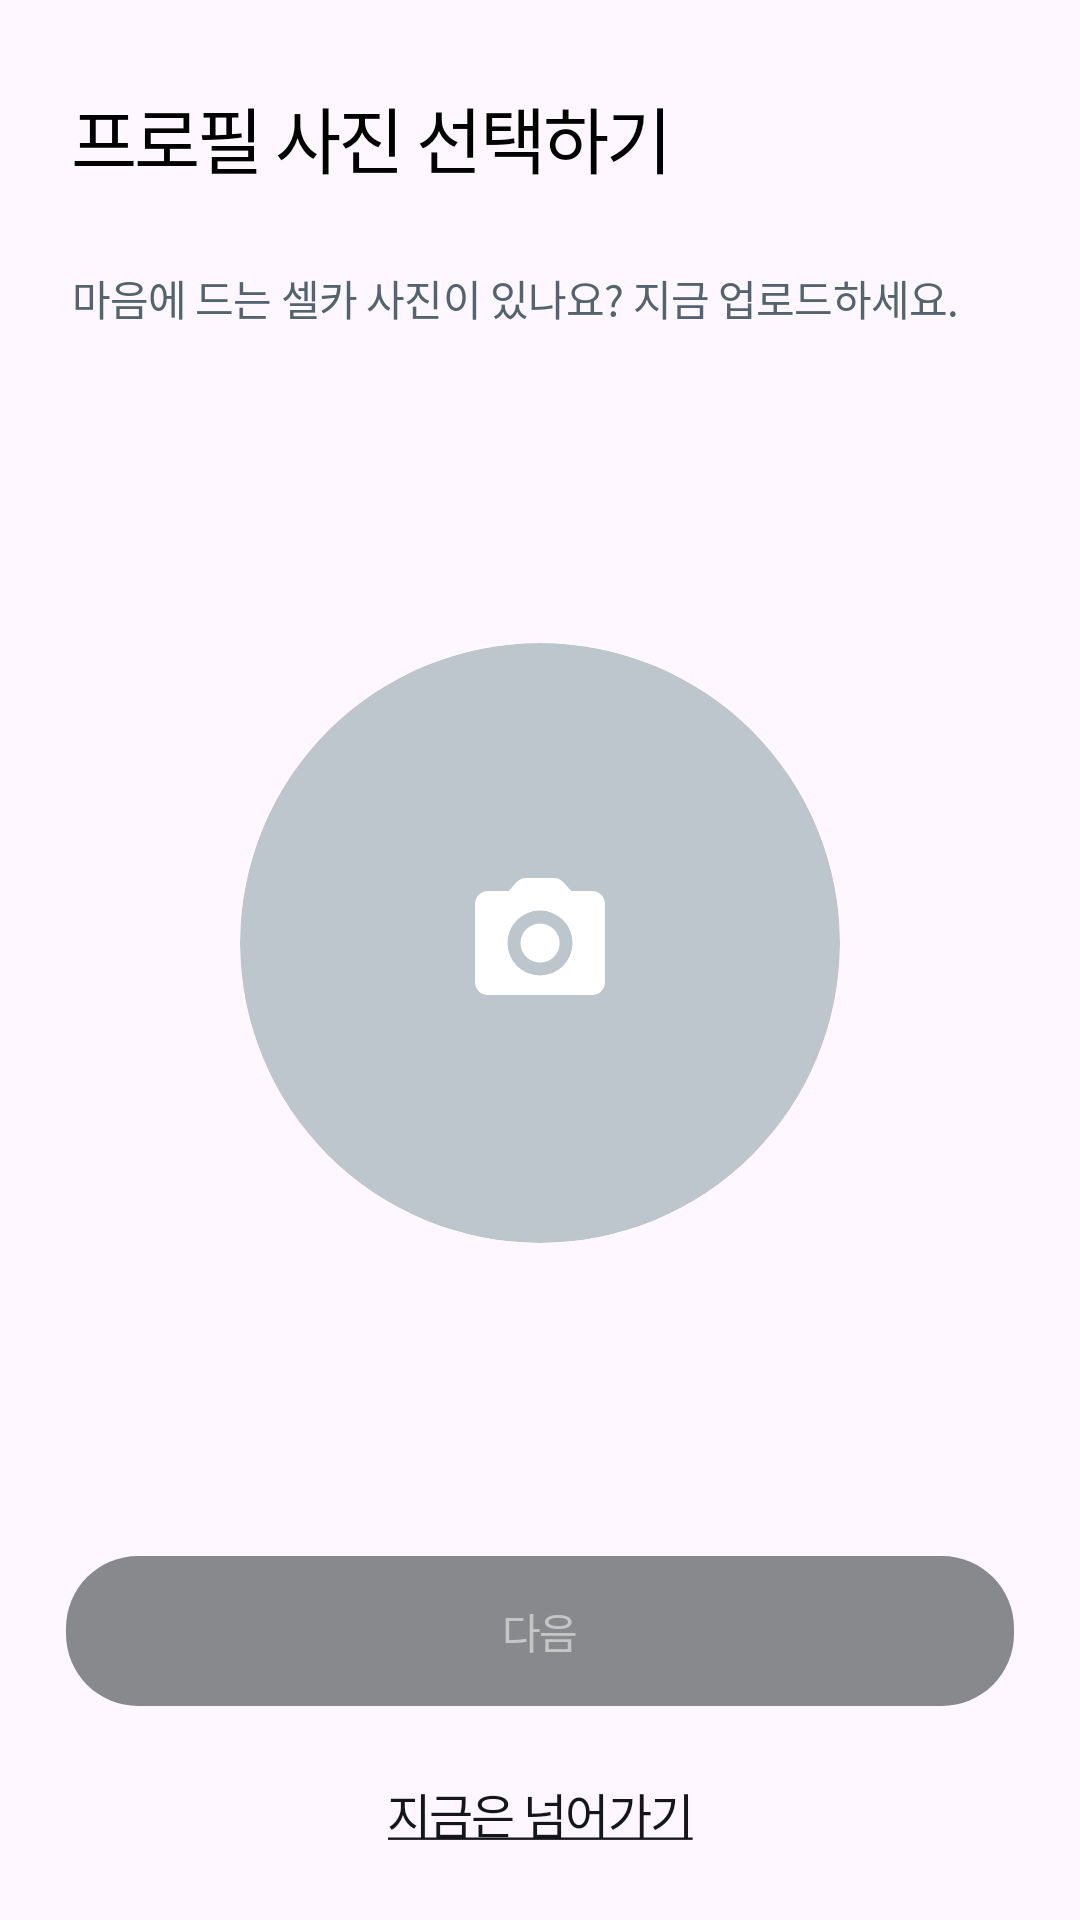

Screen size 1080*1920. Icon name, then its center in pixels as point (x, y):
camera: point (540, 936)
